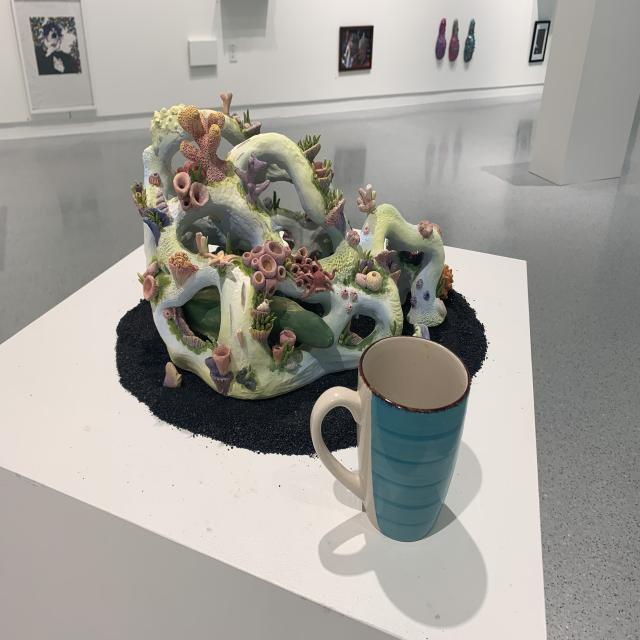Cup: (309, 333, 472, 547)
